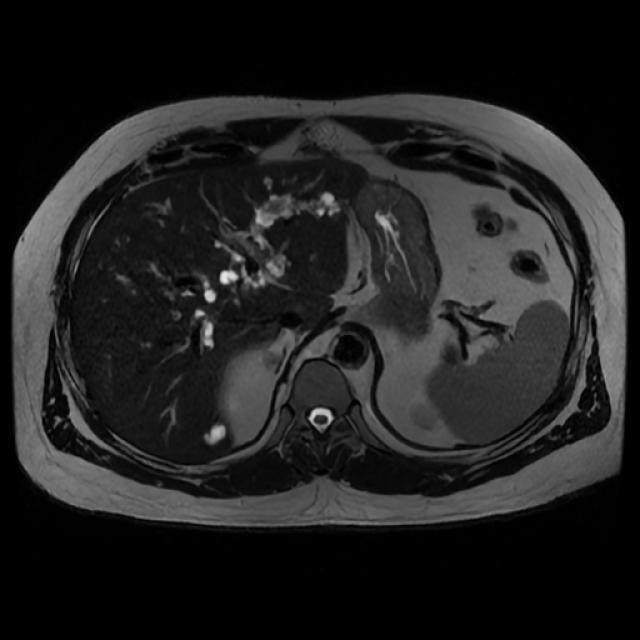sol: (408, 401, 439, 432)
